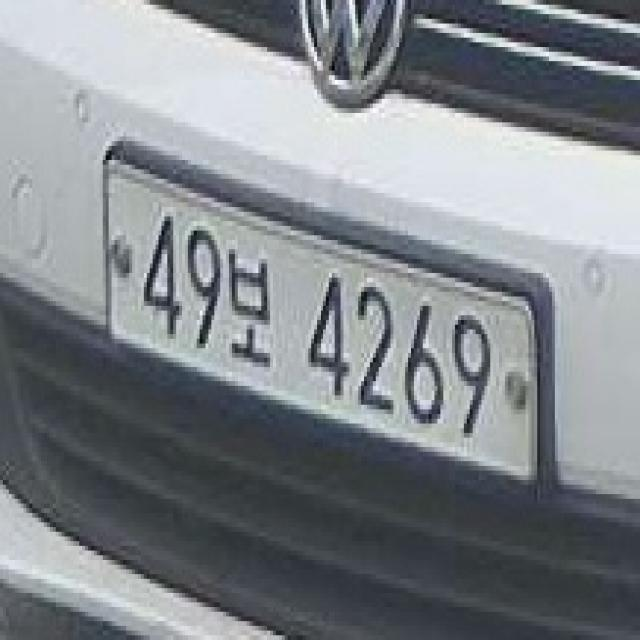2: (356, 278, 402, 437)
4: (306, 264, 354, 414), (137, 201, 185, 348)
6: (400, 298, 451, 444)
9: (451, 309, 496, 452), (186, 220, 226, 358)
bo: (227, 241, 273, 387)
license_plate: (92, 125, 575, 530)
